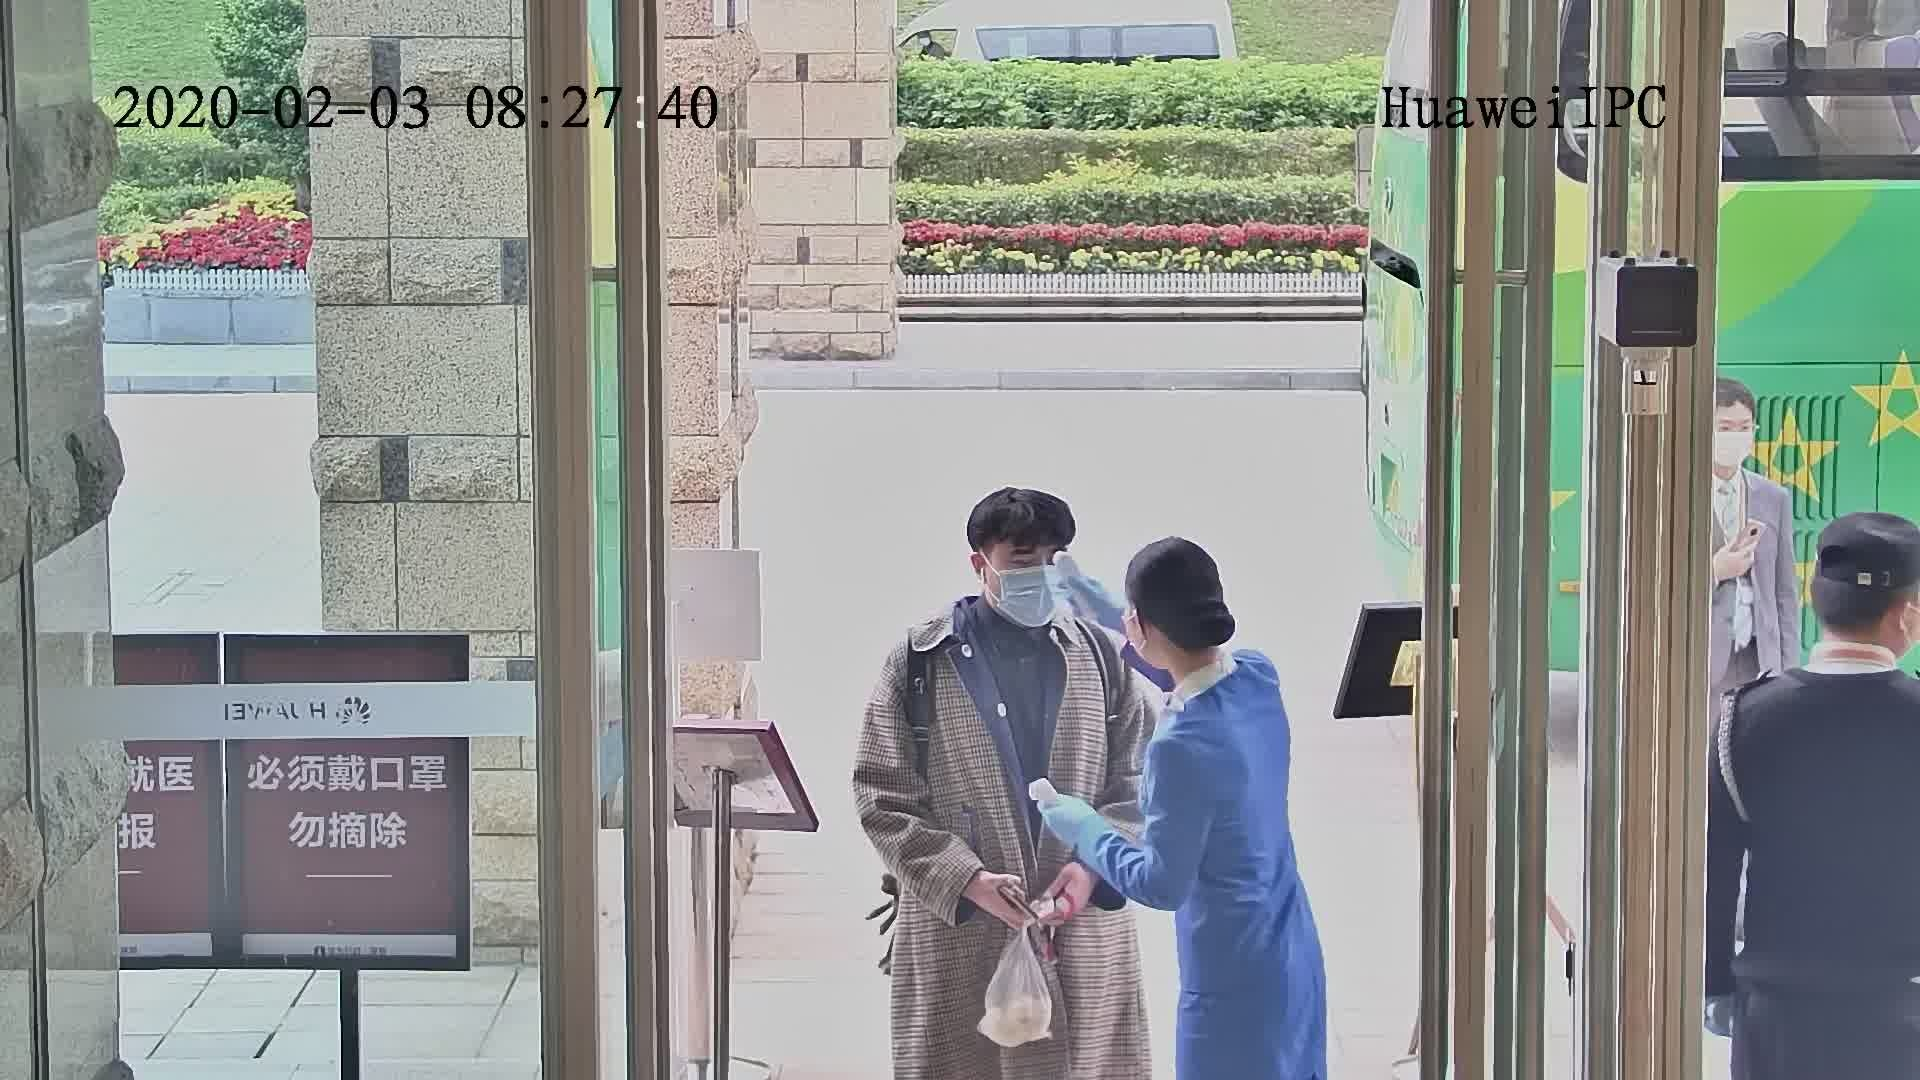face: (983, 544, 1067, 631), (1718, 404, 1756, 473)
mask: (978, 562, 1065, 635), (1714, 433, 1756, 480)
person: (869, 481, 1114, 705), (1724, 514, 1920, 771), (1116, 527, 1291, 779)
